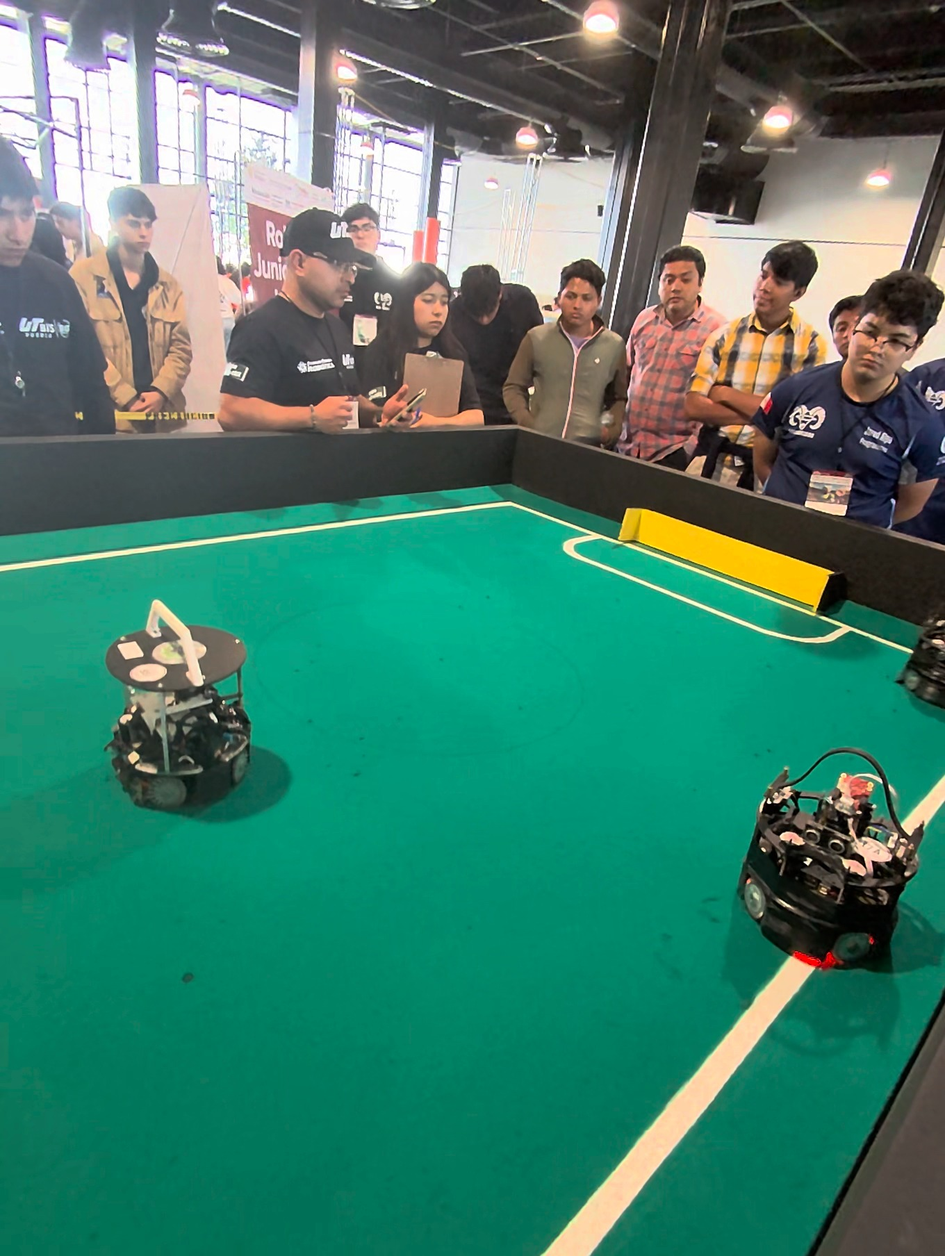Robot: (744, 735, 928, 989), (99, 583, 268, 827), (900, 597, 945, 717)
